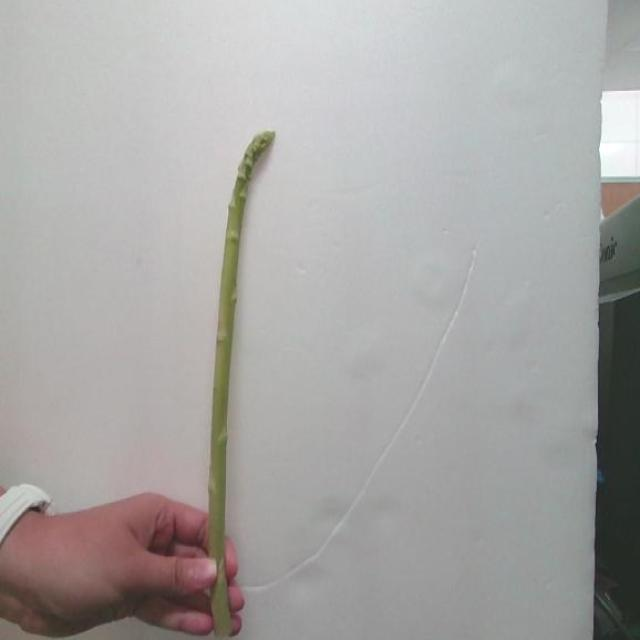aspargus: (206, 131, 275, 640)
